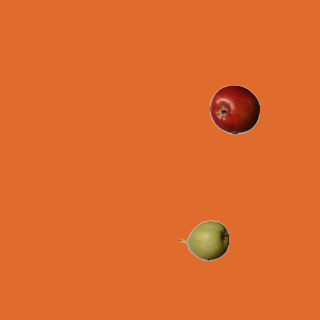Apple Braeburn: (209, 84, 259, 134)
Pear: (178, 215, 228, 265)
